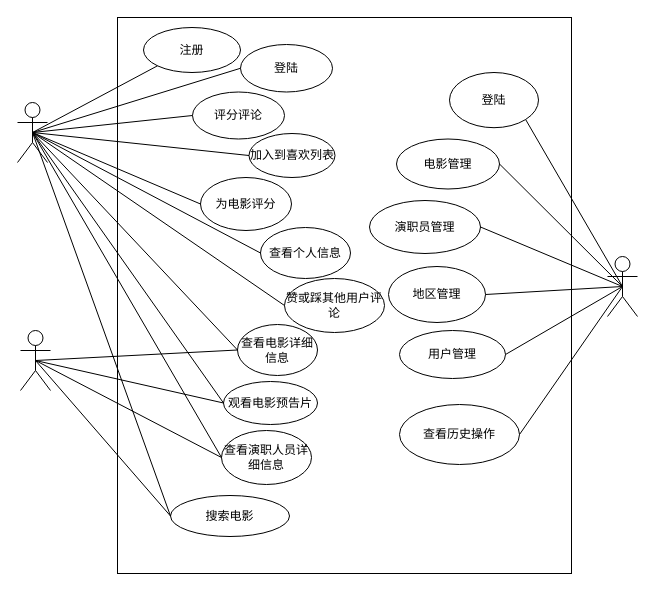
Image size: 658x591. Some labels were removed from this diagram. The box of each missing label's shape, as (x1, y1, x2, y2) in pixels:
游客: (20, 330, 50, 390)
用户: (16, 102, 48, 162)
管理员: (606, 256, 638, 316)
